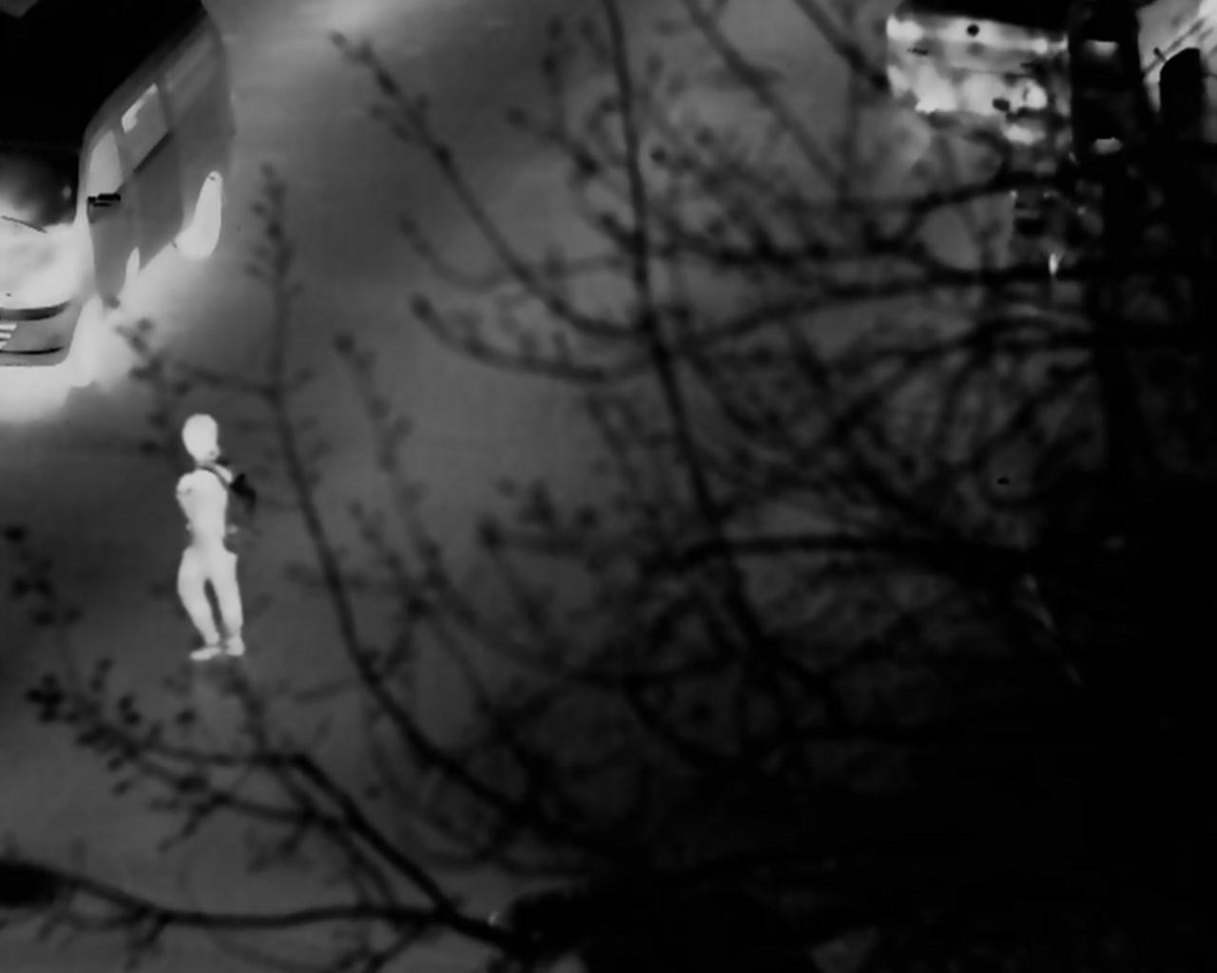person: (156, 414, 258, 658)
